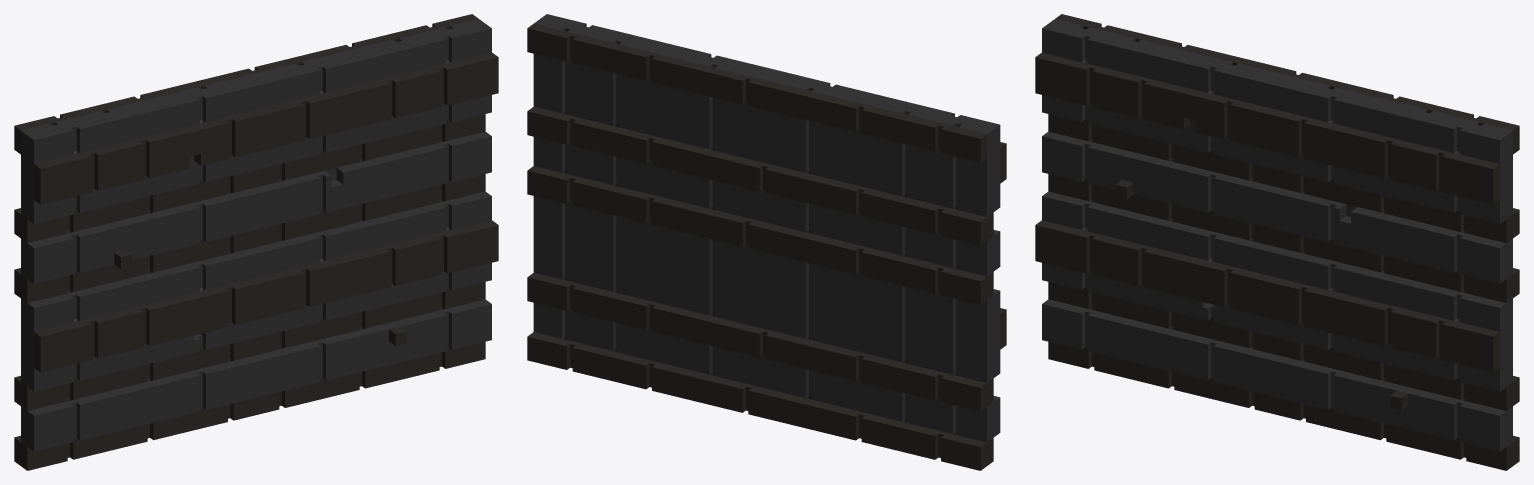
Rendered from WallStone.obj.
3 renders of one model, left to right at view 1: azimuth 30°, elevation 25°; view 2: azimuth 150°, elevation 25°; view 3: azimuth 330°, elevation 25°, orthographic.
Bounding box in the file's own units: 8 × 5.6 × 0.8.
Materials: 1 (1 with a texture image).
